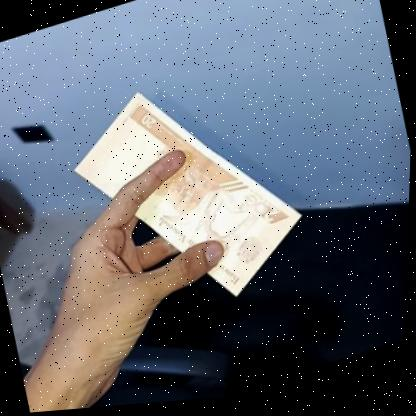twenty-back-vef: (57, 51, 321, 343)
